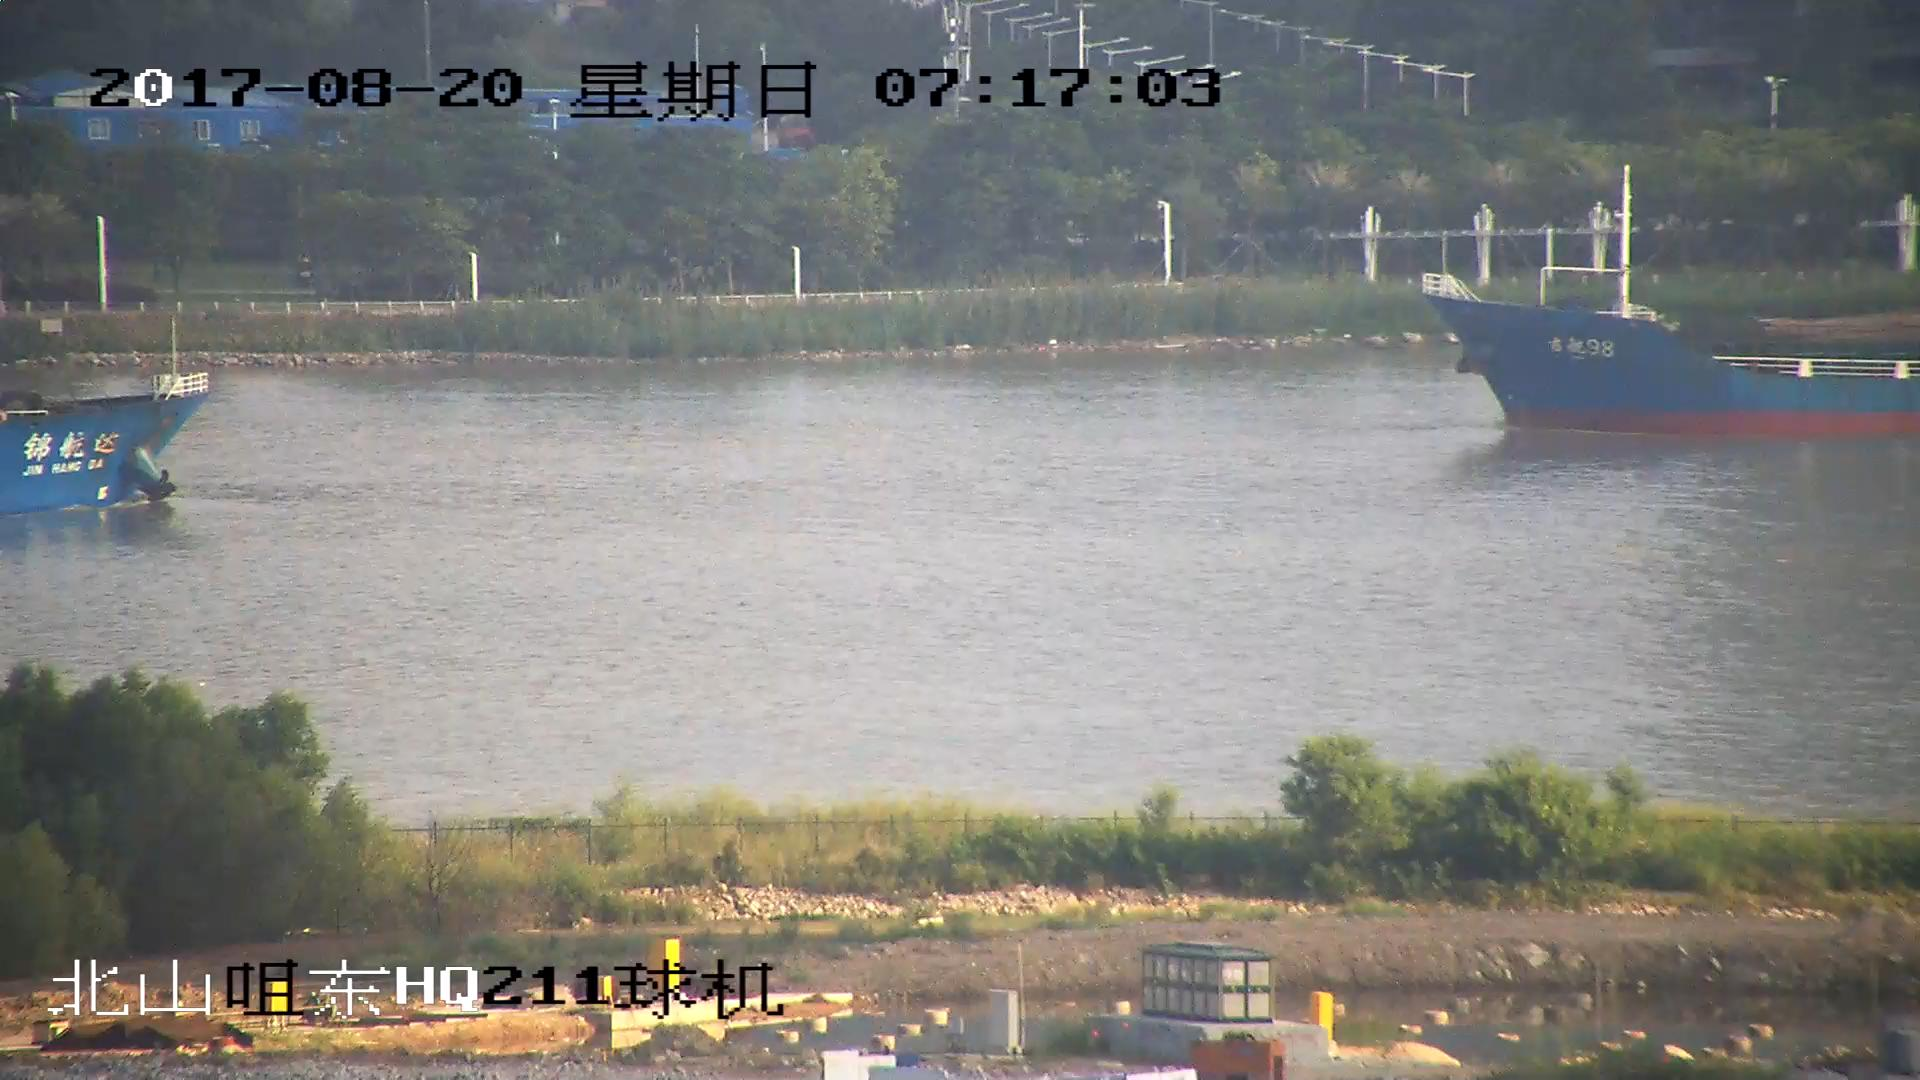general cargo ship: (1433, 192, 1920, 438), (1, 358, 195, 526)
